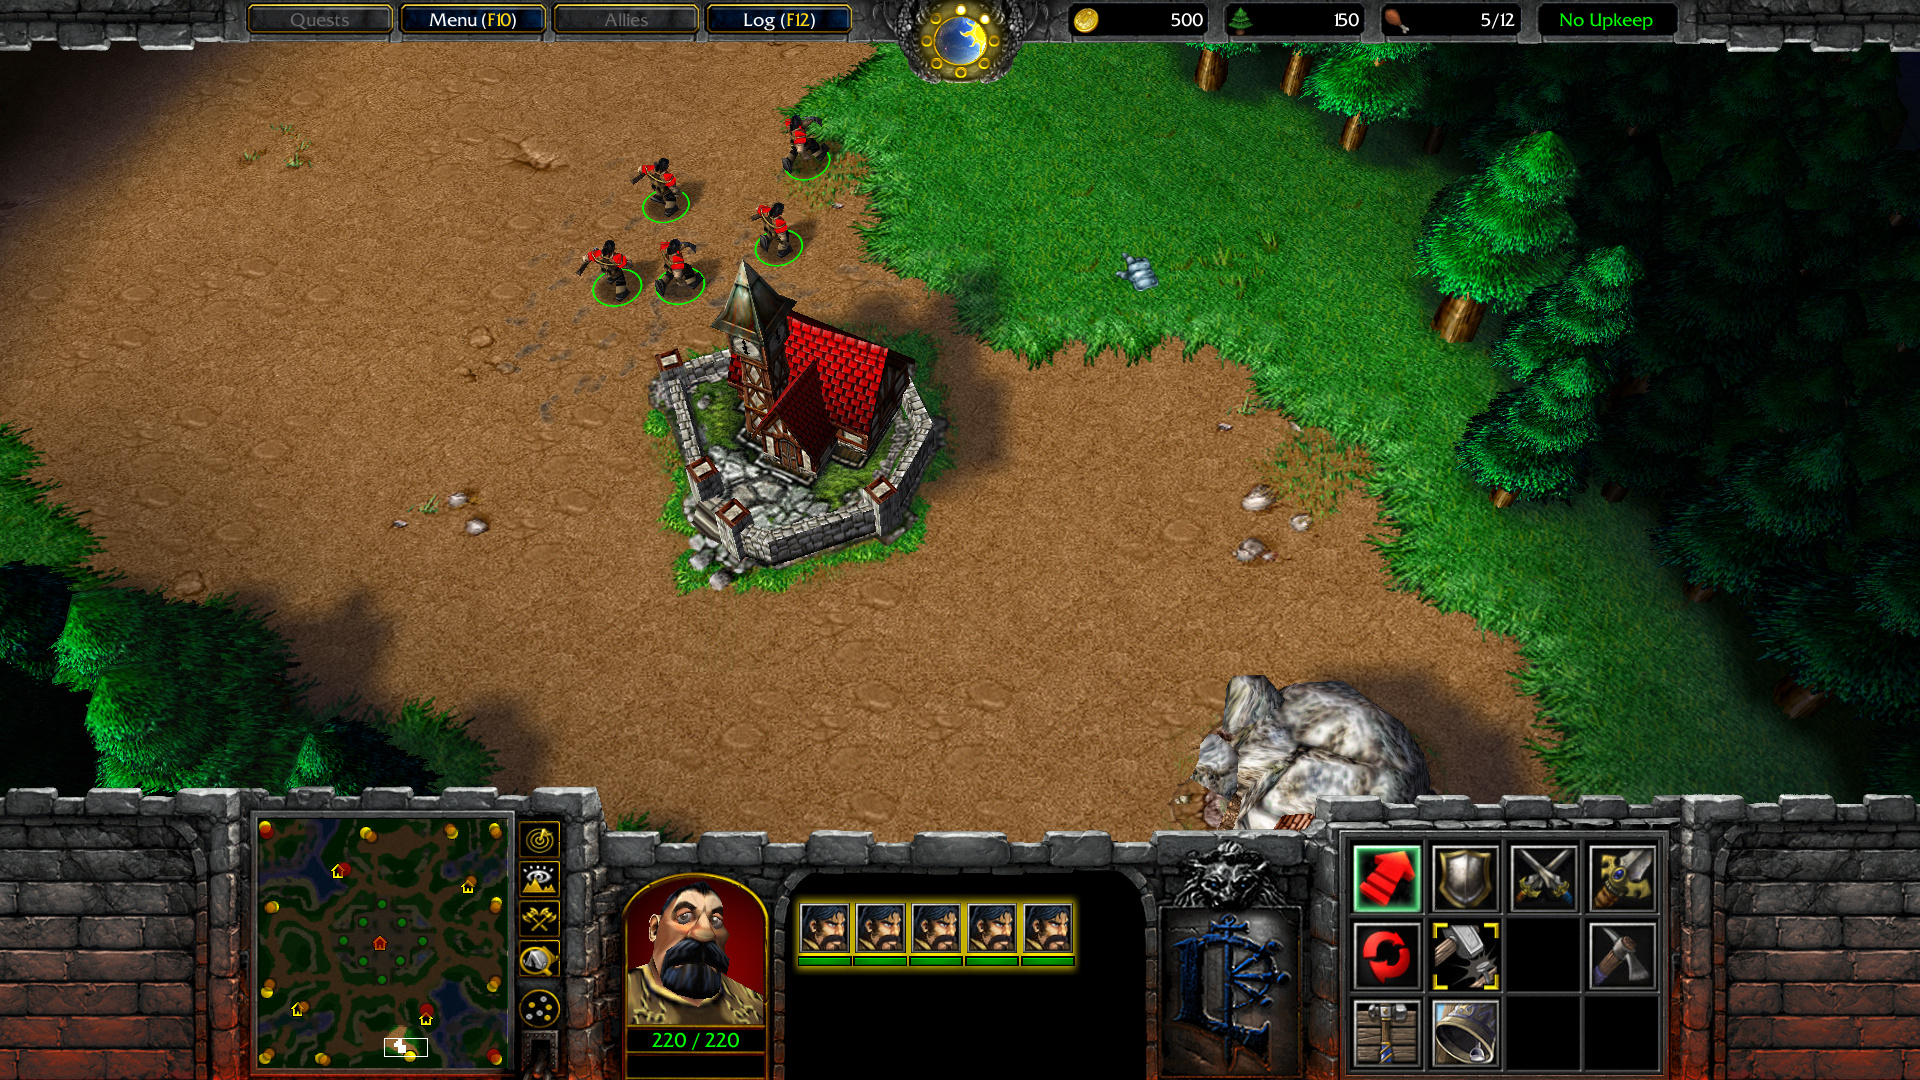Townhall: (646, 259, 961, 601)
